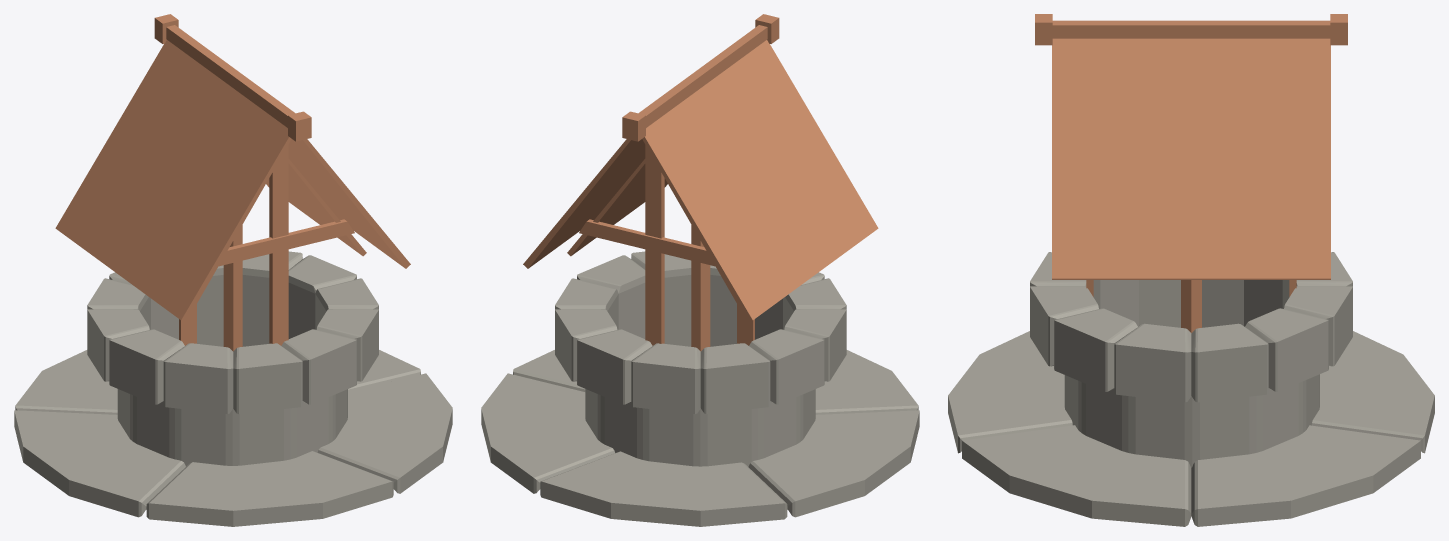
File: Cottage_5.fbx
3 views of the same model, side by side, from view 1: azimuth 30°, elevation 25°; view 2: azimuth 150°, elevation 25°; view 3: azimuth 270°, elevation 25° (orthographic). The views are drawn at different scales.
Visible parts, largest first — view 1: Cottage_5; view 2: Cottage_5; view 3: Cottage_5.
Part boxes in pixels (x1=…): Cottage_5: x1=14, y1=14, x2=452, y2=526; Cottage_5: x1=481, y1=14, x2=919, y2=526; Cottage_5: x1=948, y1=14, x2=1434, y2=526.
Bounding box in the file's own units: 122 × 123 × 113.
